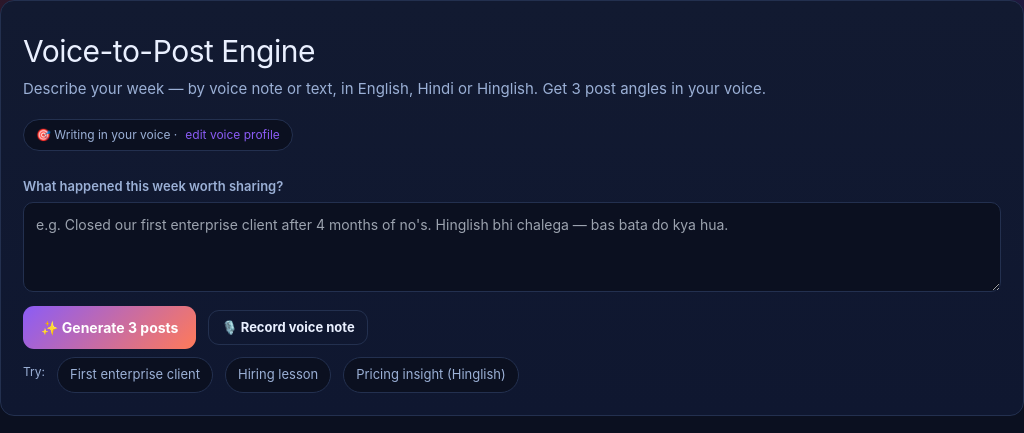
<GenerateClient> › typing updates the textarea and shows a Detected language hint
The width and height of the screenshot is (1024, 433).
Type "Closed a deal" into the text box labelled "What happened this week worth sharing?" at (512, 247), box [23, 202, 1001, 292]
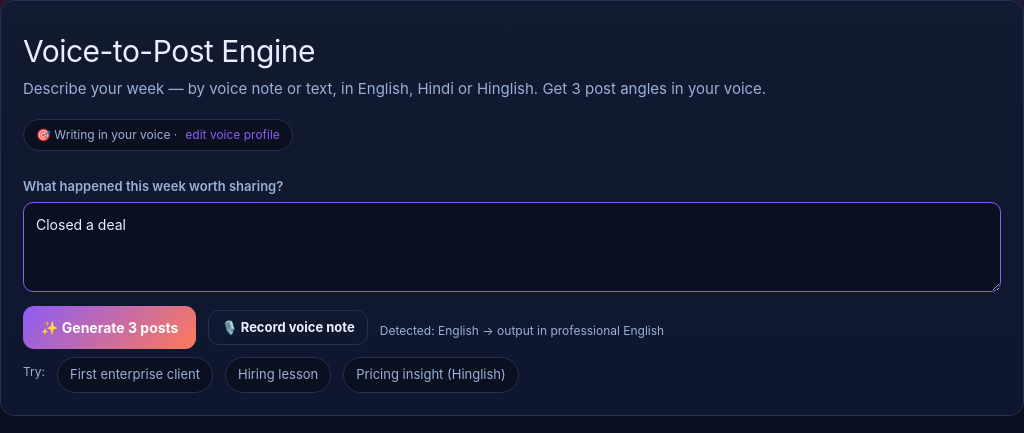
expect the text "Detected: English → output in professional English" is shown: met, box [380, 322, 664, 340]
